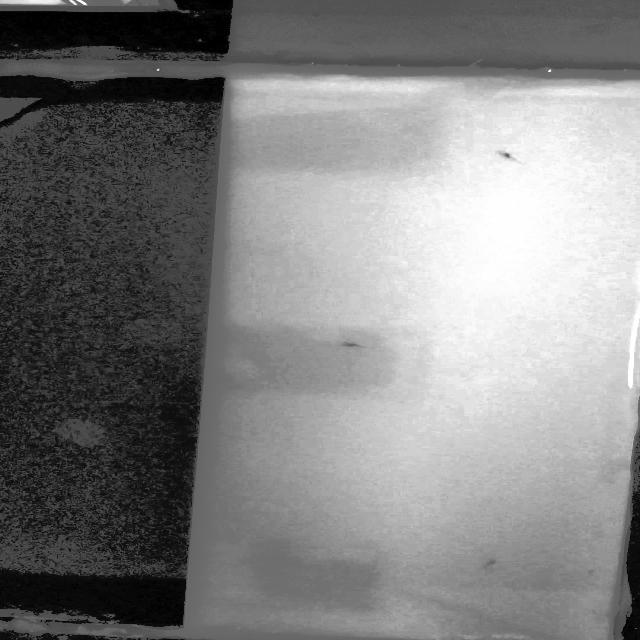shrimp: (478, 140, 536, 172), (335, 339, 379, 355), (477, 552, 500, 574)
